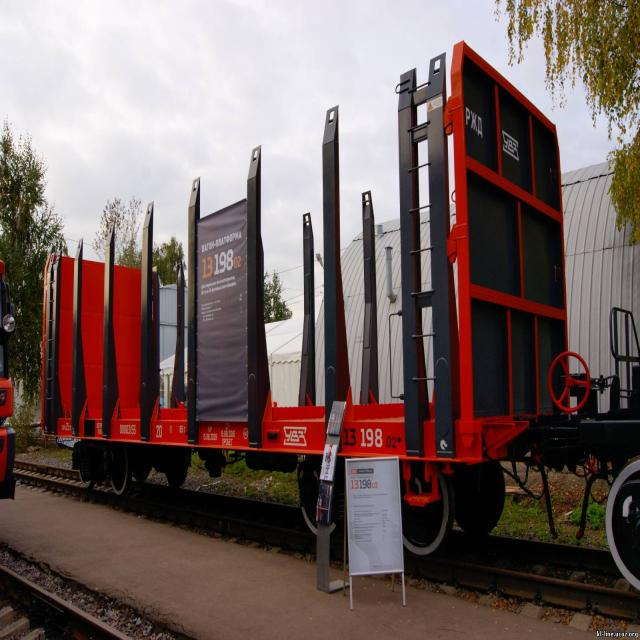flatcar_bulkhead: (38, 23, 578, 571)
